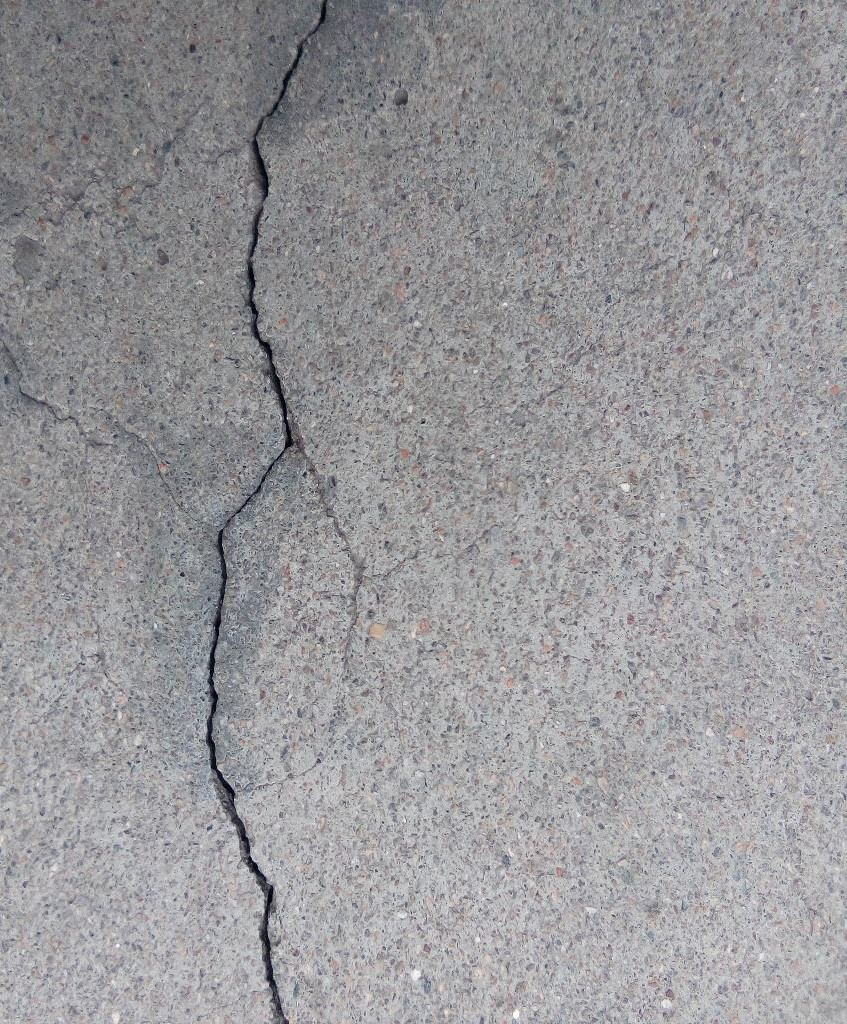Crack: (203, 1, 330, 1024)
